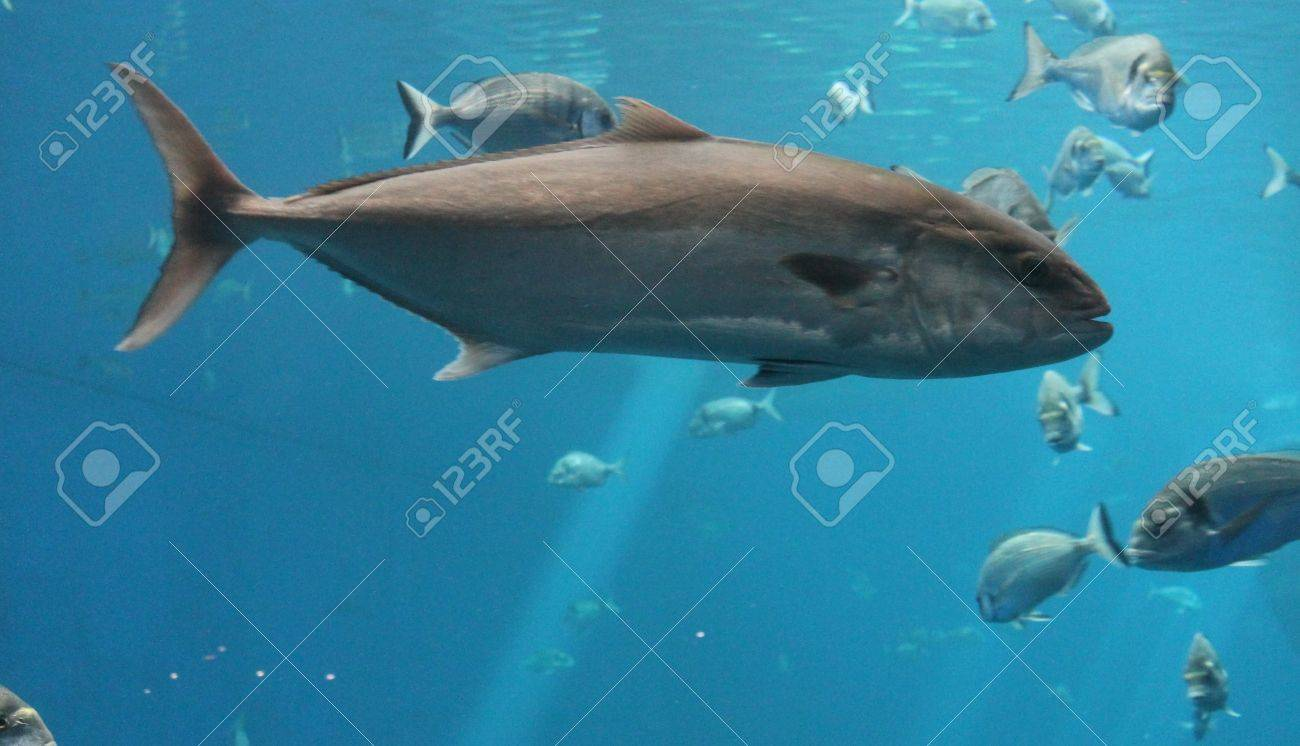Bluefina Tuna: (101, 45, 1300, 627)
